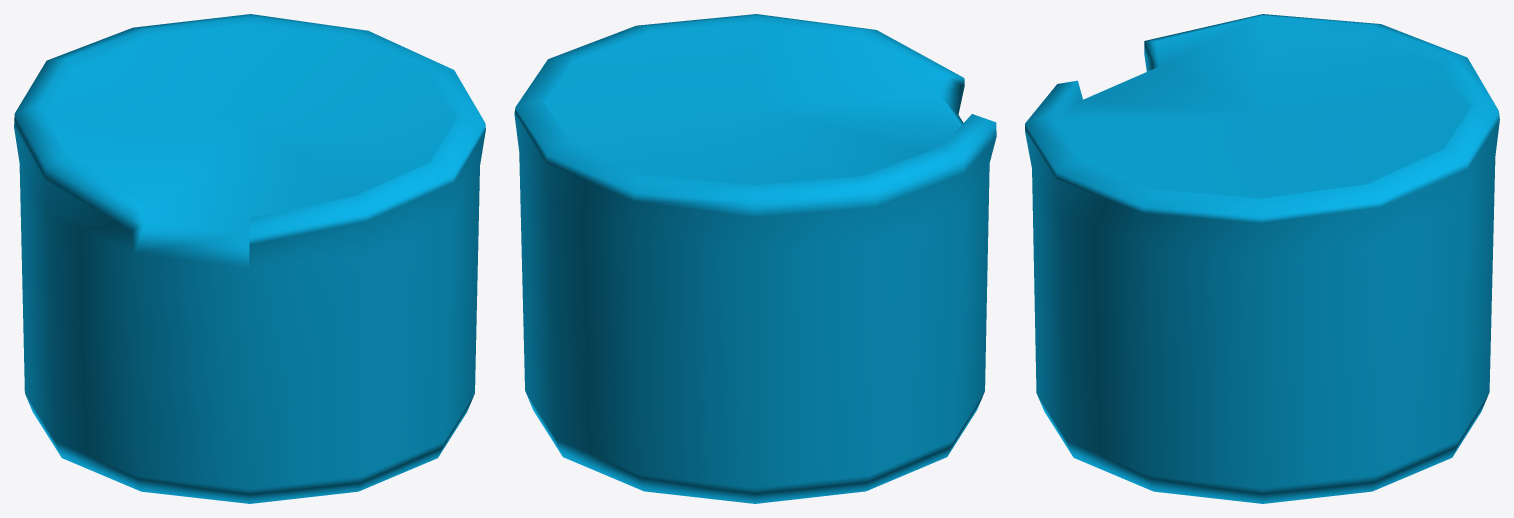
Rendered from Chopping_block.fbx.
3 renders of one model, left to right at view 1: azimuth 30°, elevation 25°; view 2: azimuth 150°, elevation 25°; view 3: azimuth 270°, elevation 25°, orthographic. The views are drawn at different scales.
Visible parts, largest first — view 1: Chopping_block; view 2: Chopping_block; view 3: Chopping_block.
Part boxes in pixels (x1,y1,x2,y2): Chopping_block: (14, 14, 485, 503); Chopping_block: (514, 14, 996, 503); Chopping_block: (1025, 14, 1499, 503).
Bounding box in the file's own units: 66.66 × 48.22 × 66.64.
